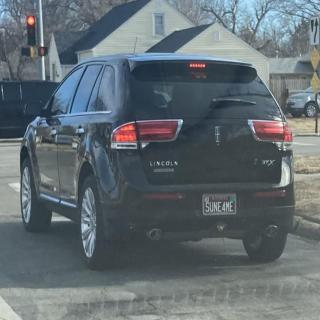license: (203, 194, 238, 217)
